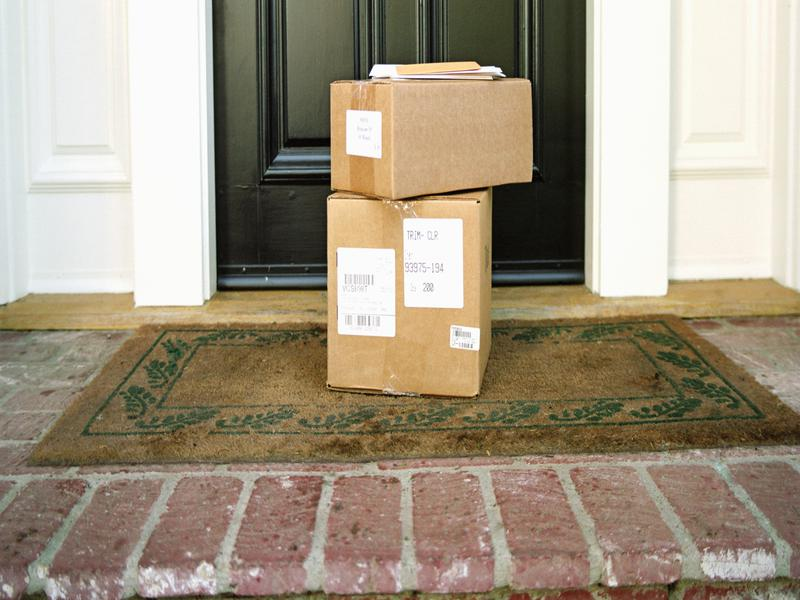package: (321, 195, 498, 404), (324, 74, 539, 204)
